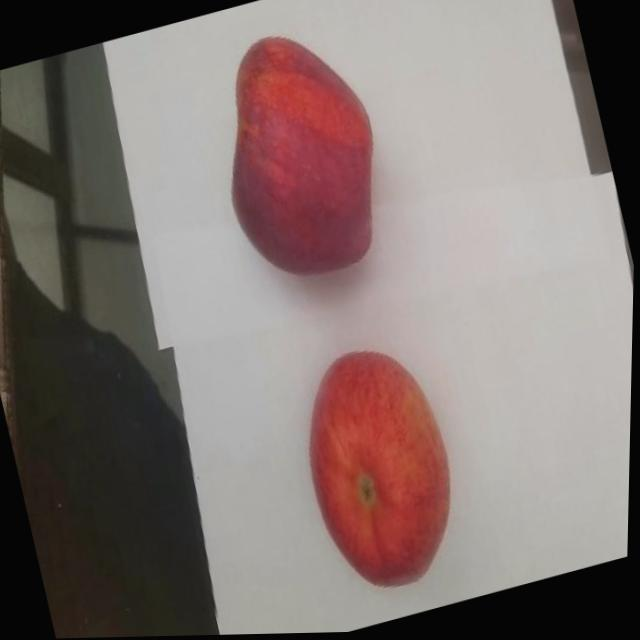Apple: (190, 13, 412, 300), (280, 330, 484, 605)
